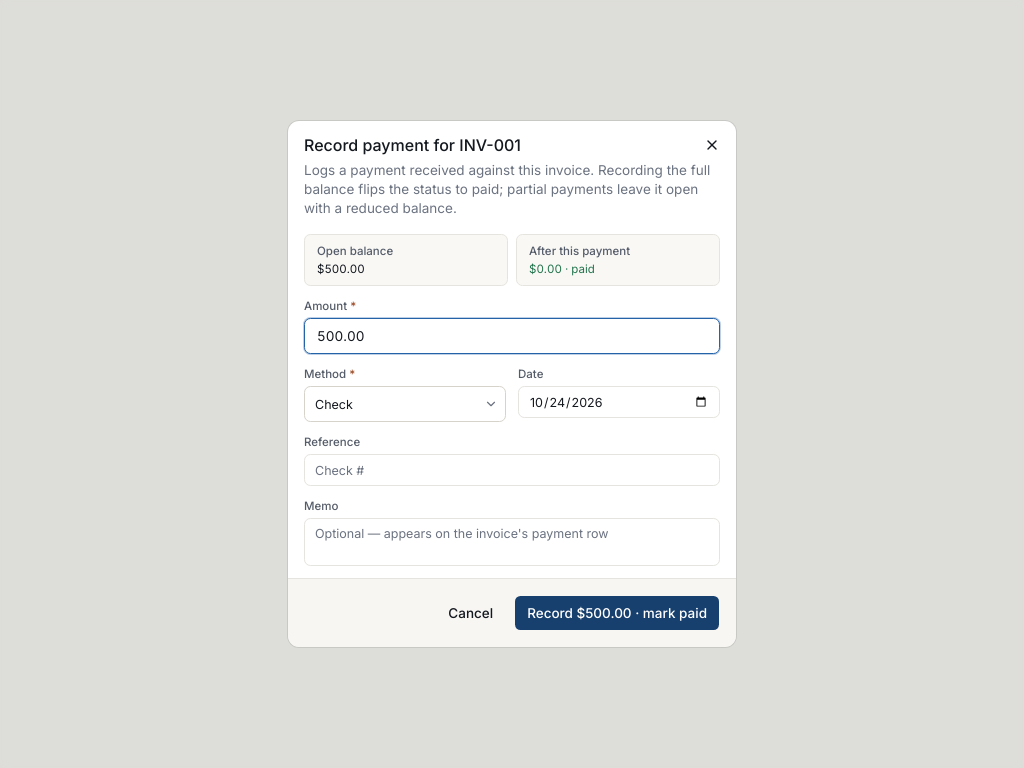
Scenario: RecordPaymentDialog — close on success › stays open and surfaces the error when the action fails
Click the button "Record $500.00 · mark paid". click: (617, 613)
box: [514,595,720,631]
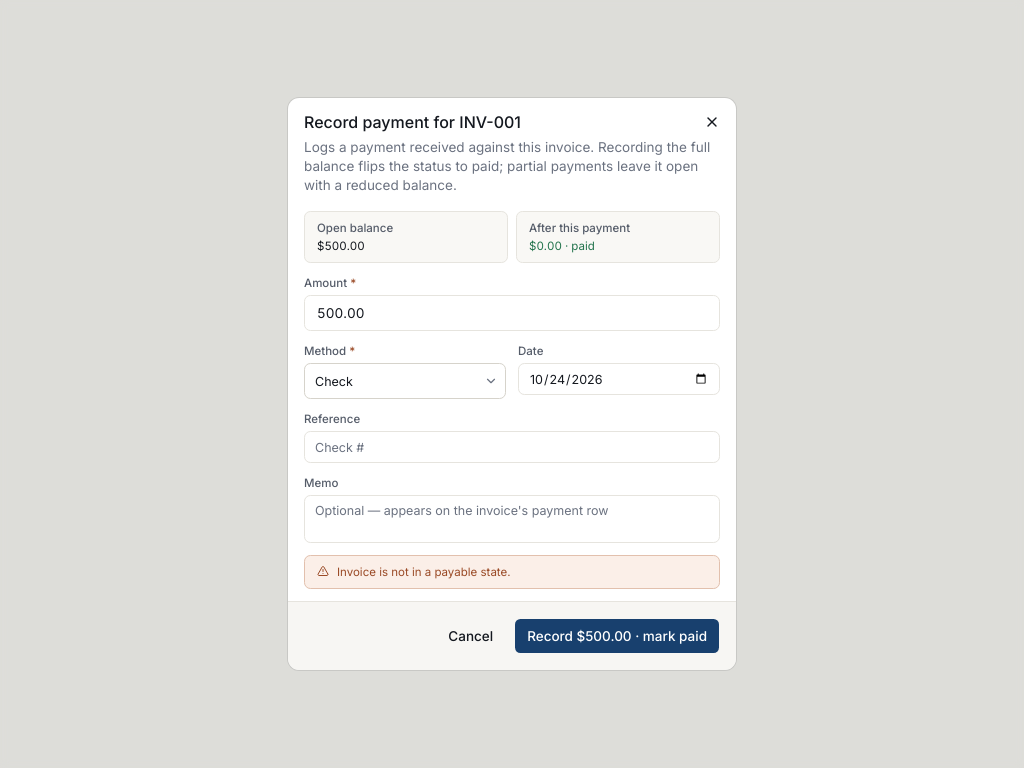
Now the text "Invoice is not in a payable state." is shown, box [337,564,510,580]
